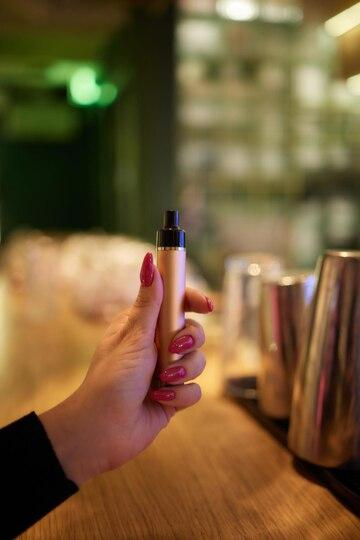Vape: (154, 211, 185, 371)
